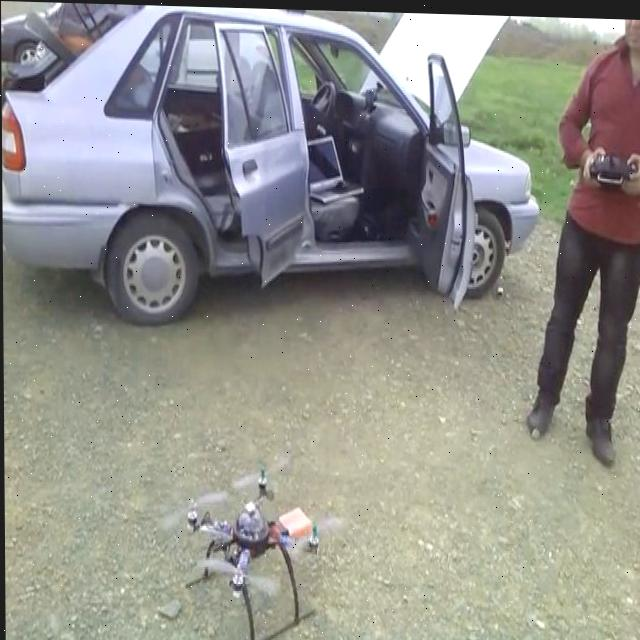drone: (162, 446, 348, 640)
